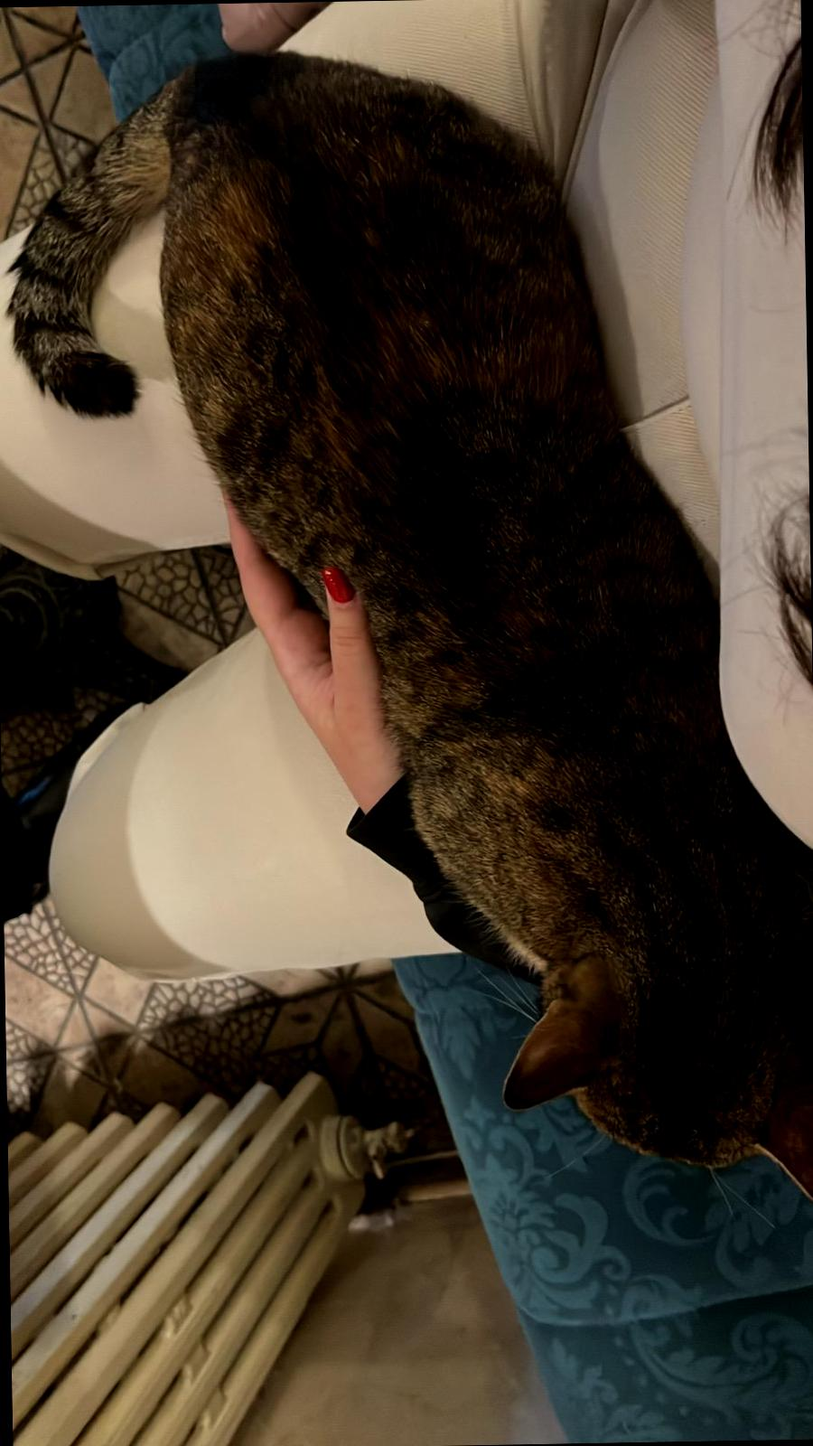macka: (6, 37, 813, 1220)
